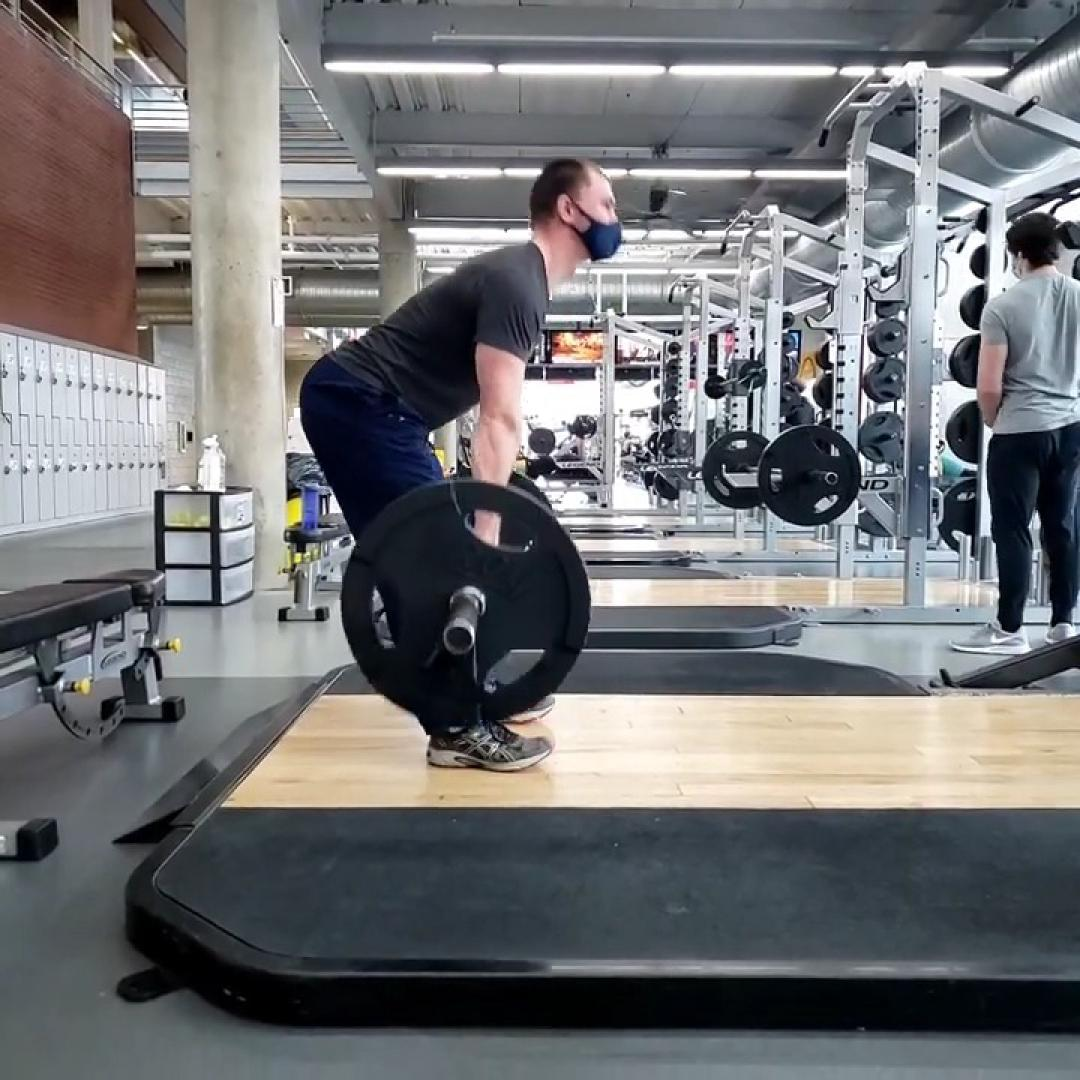Bar: (442, 624, 474, 654)
Barbell: (340, 481, 590, 723)
